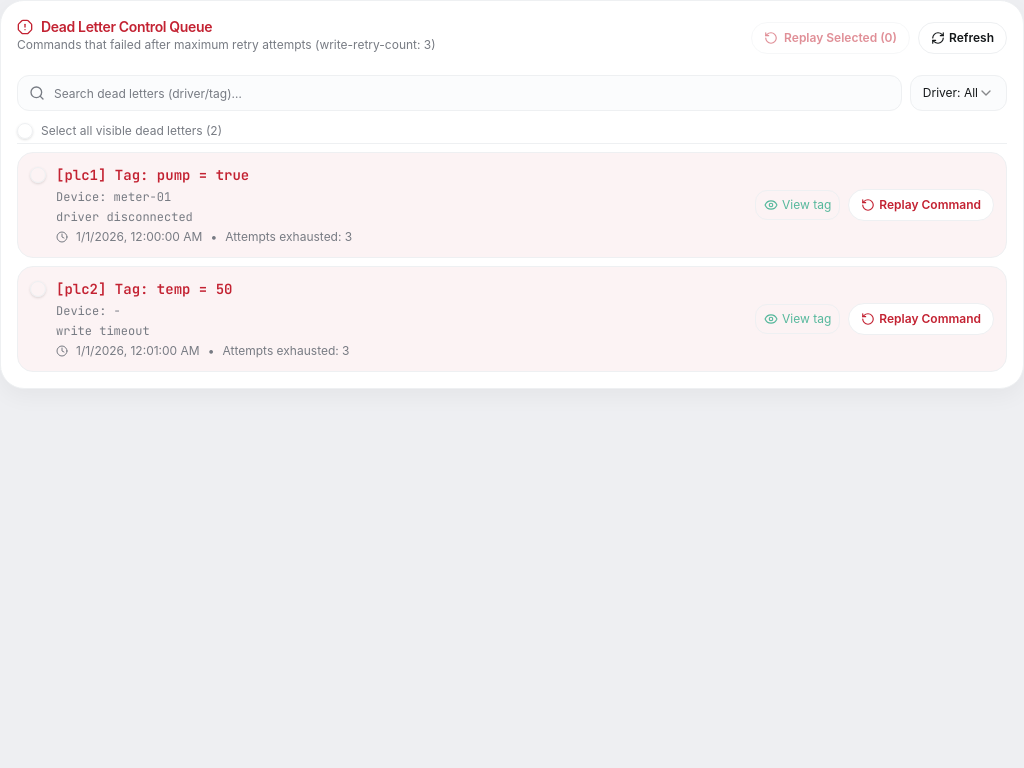
Test: DeadLetterReplayList › single replay: cancel sends nothing
Click the button "Replay Command" in the row of "driver disconnected" at (921, 205), box [848,189,994,221]
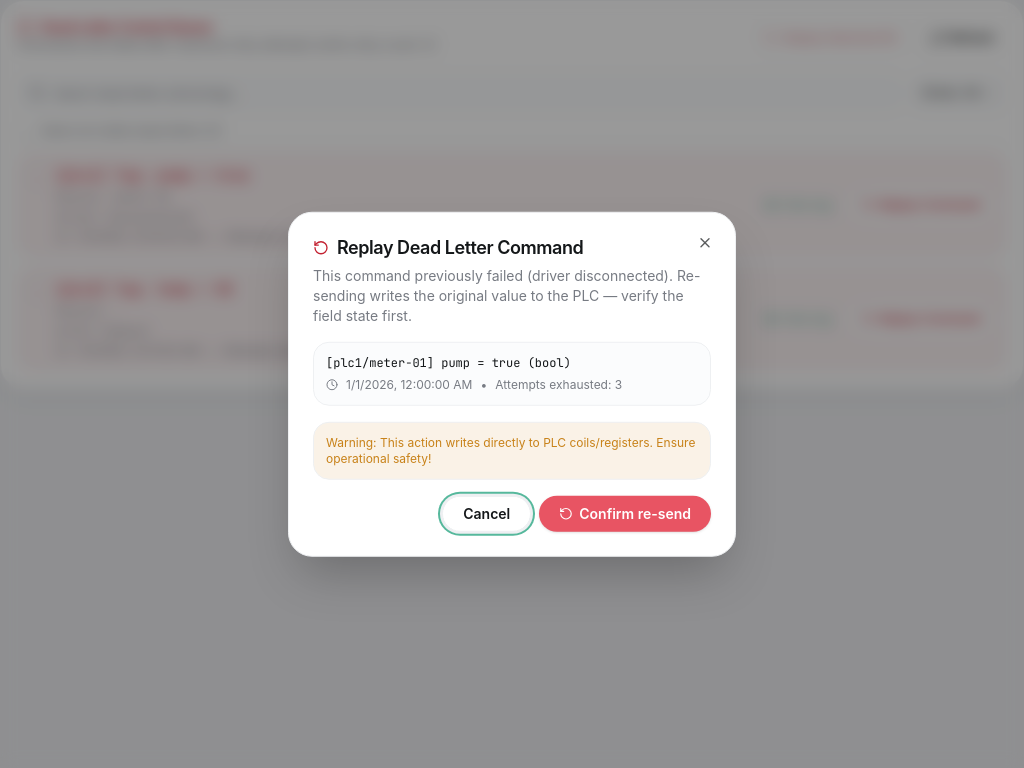
Now the text "Replay Dead Letter Command" is shown, box [337,237,583,259]
Click the button "Cancel" at (487, 513), box [442,495,531,531]
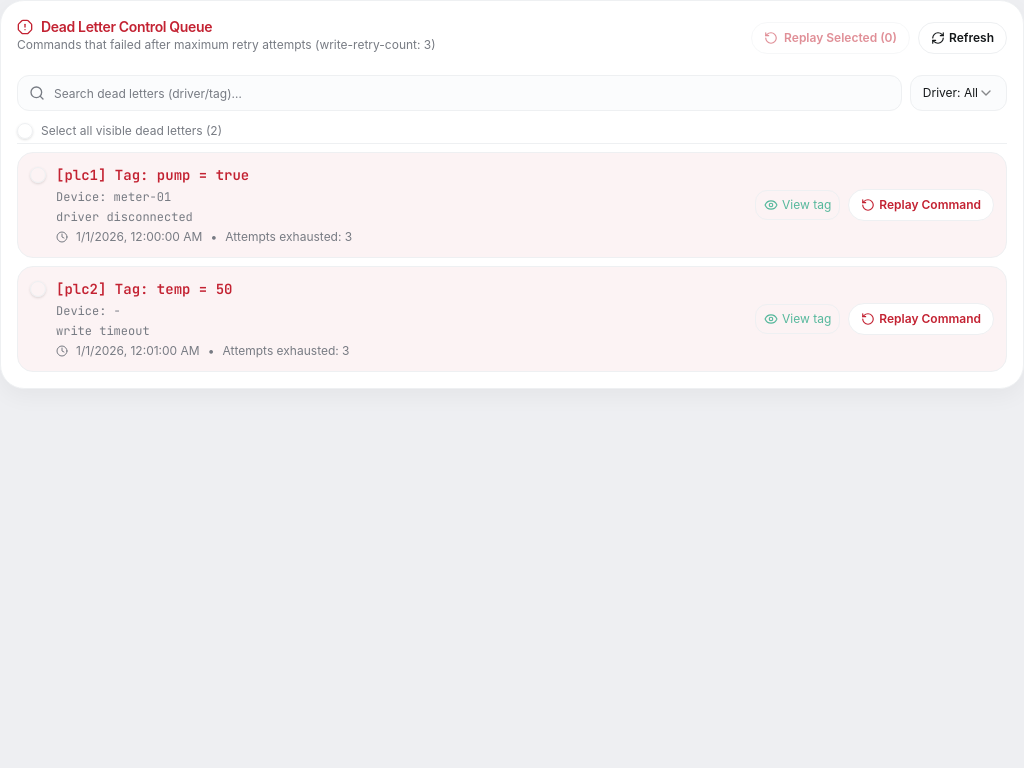
Now the text "Replay Dead Letter Command" is gone
